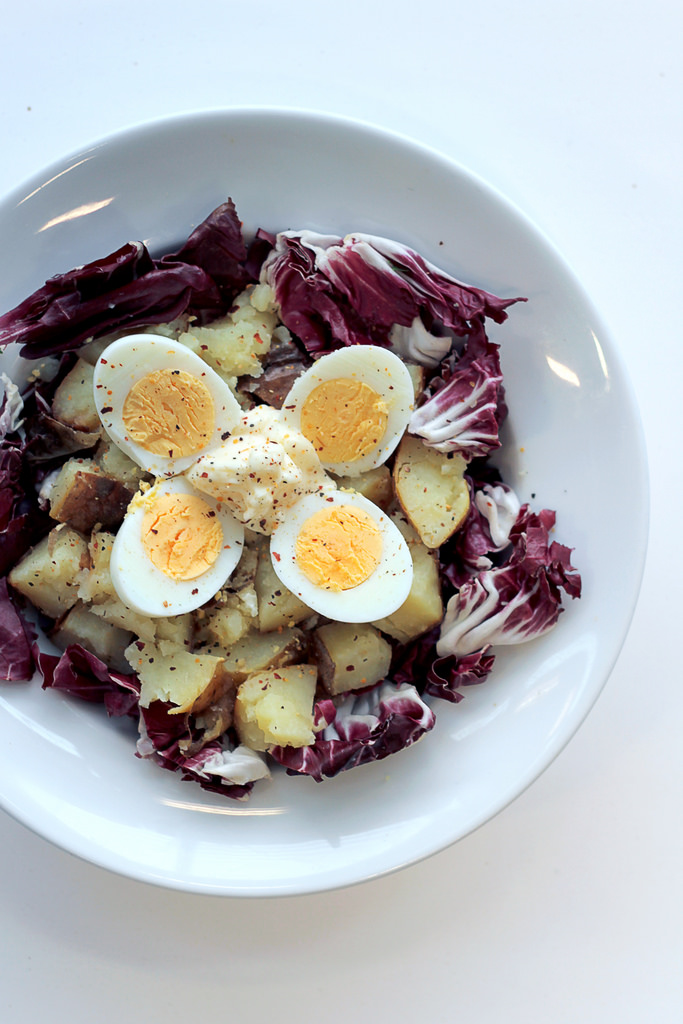boiled potatoes: (64, 585, 448, 748)
fried egg: (94, 337, 253, 472), (256, 483, 395, 625), (276, 342, 406, 470), (110, 470, 214, 618)
